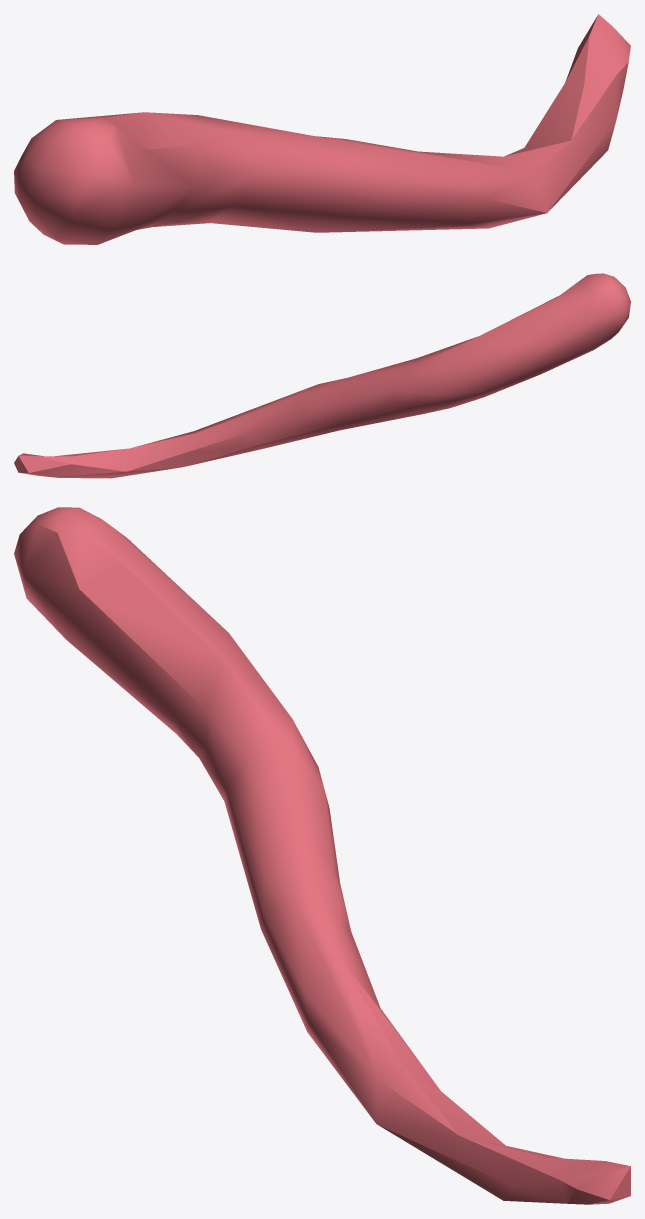
Rendered from fma3840_fj2695.glb.
3 renders of one model, top to bottom at view 1: azimuth 30°, elevation 25°; view 2: azimuth 150°, elevation 25°; view 3: azimuth 270°, elevation 25°, orthographic. The views are drawn at different scales.
Parts seen in each view (by area): view 1: FMA3840_FJ2695; view 2: FMA3840_FJ2695; view 3: FMA3840_FJ2695.
Part boxes in pixels (box(x1,y1,x2,y2)): FMA3840_FJ2695: box(14, 14, 630, 244); FMA3840_FJ2695: box(14, 273, 630, 478); FMA3840_FJ2695: box(14, 507, 630, 1204).
Size of the model in its own units: 0.00884 by 0.0037 by 0.00582.
